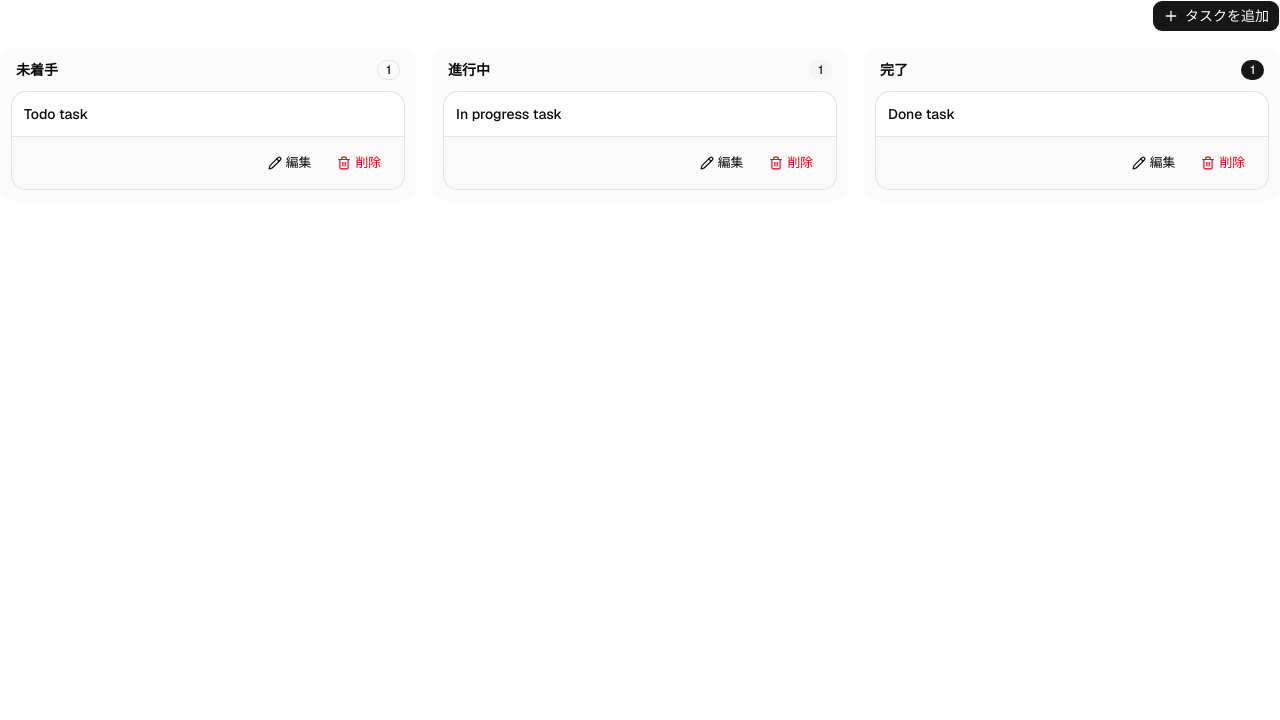
Scenario: Board › opens the edit form pre-filled when a card's Edit is clicked
What coordinates should you click on to do the following:
click the button "編集" below "Todo task"
I would click on:
 (290, 163)
Its box is [257,149,322,177].
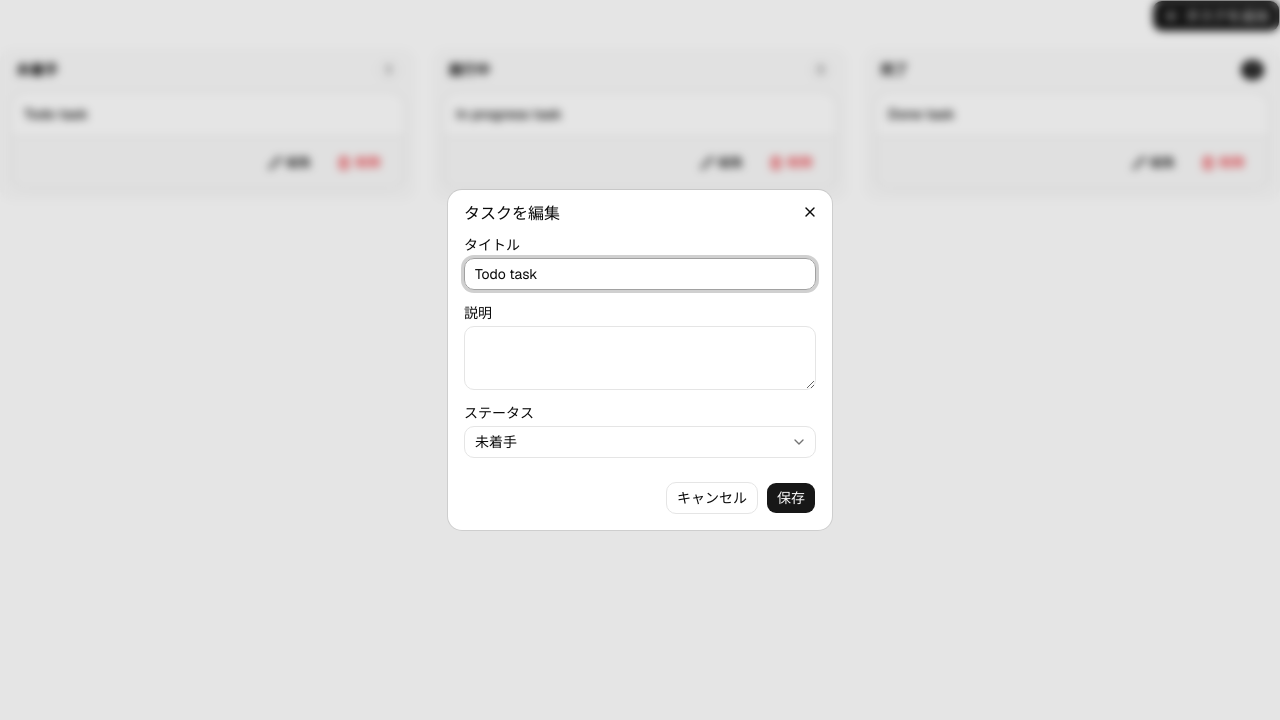
Expected: the field labelled "タイトル" holds "Todo task", [464,258,816,290]
